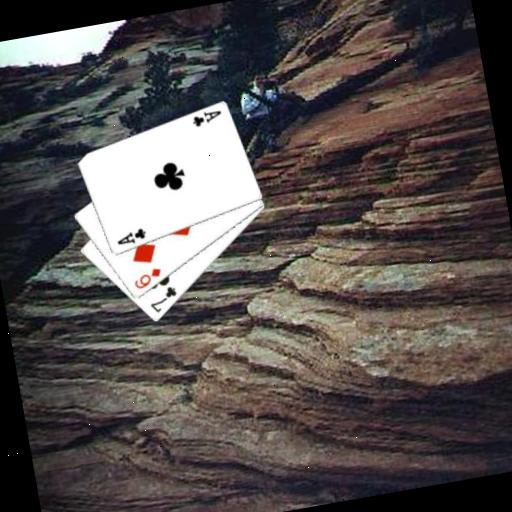6D: (129, 264, 165, 291)
7C: (144, 282, 181, 316)
AC: (111, 224, 148, 248), (187, 105, 224, 129)
